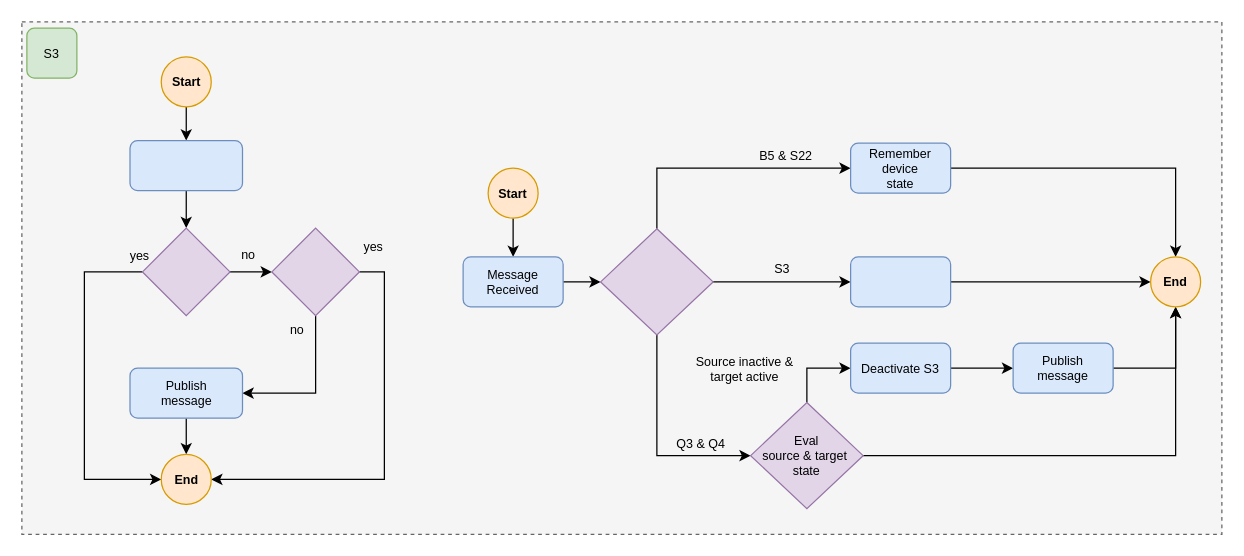
Image size: 1244x556. Some labels were removed from this diagram. The shapes that lost their labels are listed below. From the top down, each one's box as (x1, y1, x2, y2) in pixels, then its label:
(129, 139, 242, 191): S3 activated
(141, 227, 230, 316): S22 active?
(271, 227, 359, 316): B5 active?
(599, 228, 713, 335): Eval device name
(849, 256, 951, 307): Set device state
